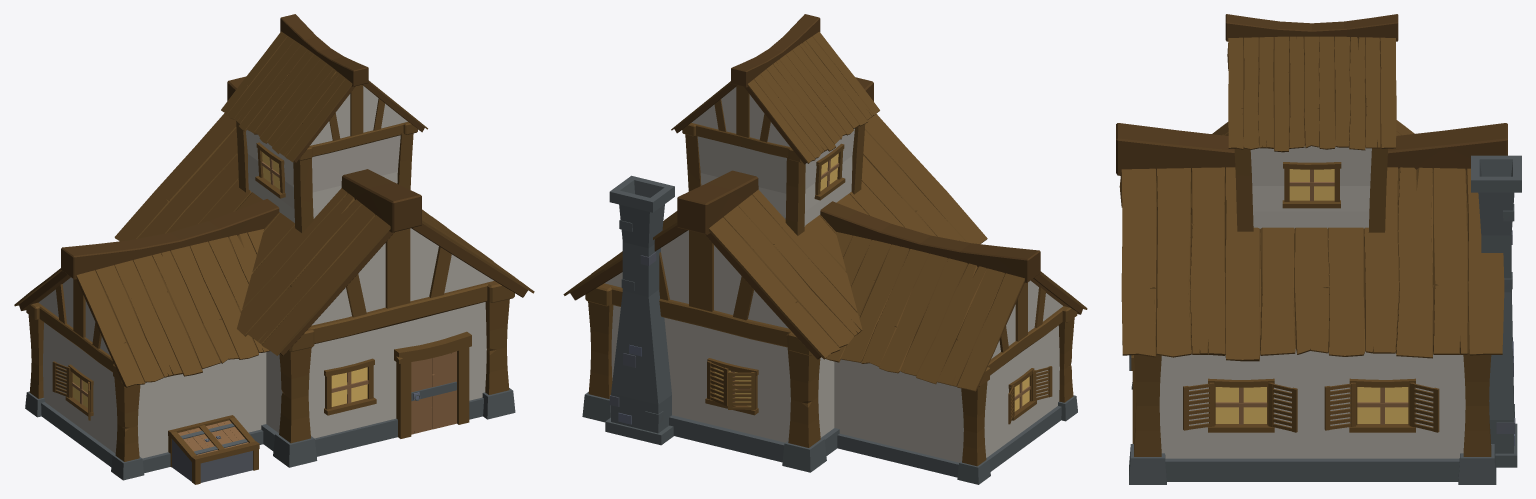
Rendered from House_06.fbx.
3 views of the same model, side by side, from view 1: azimuth 30°, elevation 25°; view 2: azimuth 150°, elevation 25°; view 3: azimuth 270°, elevation 25° (orthographic). The views are drawn at different scales.
Visible parts, largest first — view 1: House_06; view 2: House_06; view 3: House_06.
Part boxes in pixels (x1,y1,x2,y2): House_06: [14, 14, 534, 484]; House_06: [563, 14, 1087, 484]; House_06: [1116, 14, 1521, 484].
Bounding box in the file's own units: 9 × 7.53 × 6.88.
